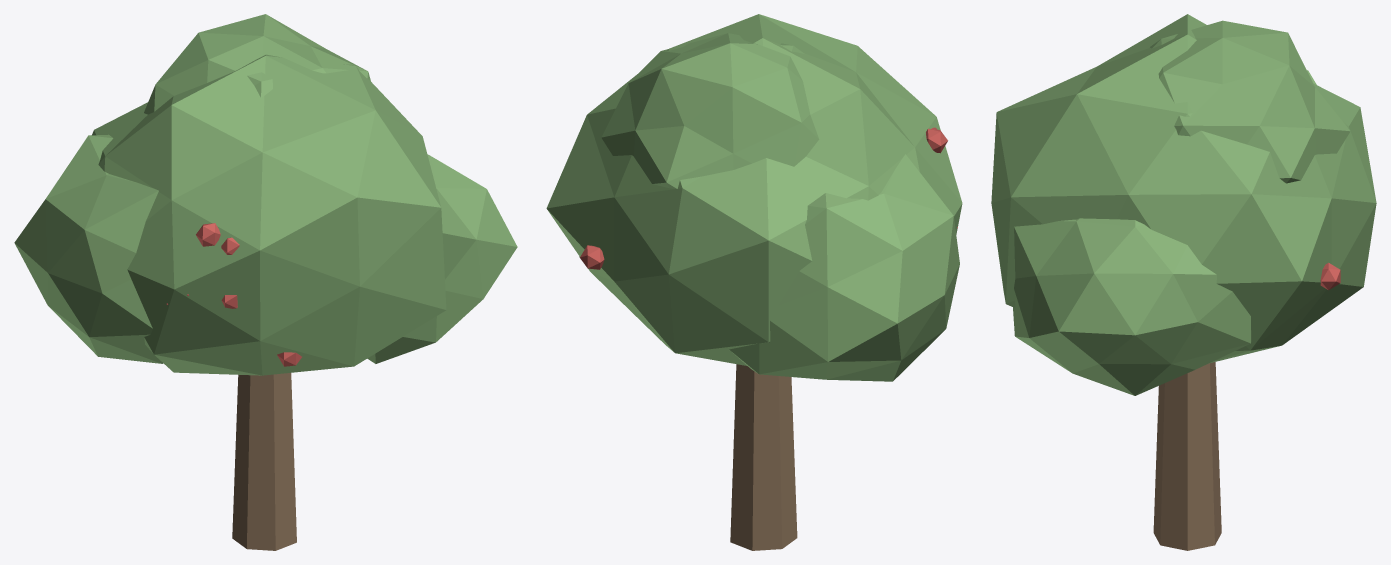
File: fruit_tree.glb
3 renders of one model, left to right at view 1: azimuth 30°, elevation 25°; view 2: azimuth 150°, elevation 25°; view 3: azimuth 270°, elevation 25°, orthographic. The views are drawn at different scales.
Parts seen in each view (by area): view 1: fruit_tree; view 2: fruit_tree; view 3: fruit_tree.
Part boxes in pixels (x1,y1,x2,y2): fruit_tree: (14,14,517,550); fruit_tree: (546,14,962,550); fruit_tree: (991,14,1376,550).
Bounding box in the file's own units: 2.71 × 3.19 × 2.2.
